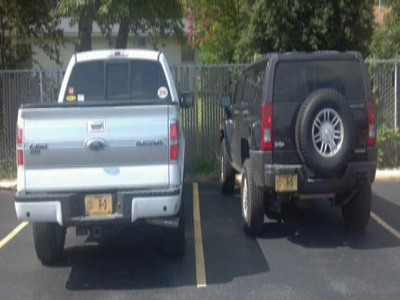licence: (86, 193, 113, 218)
